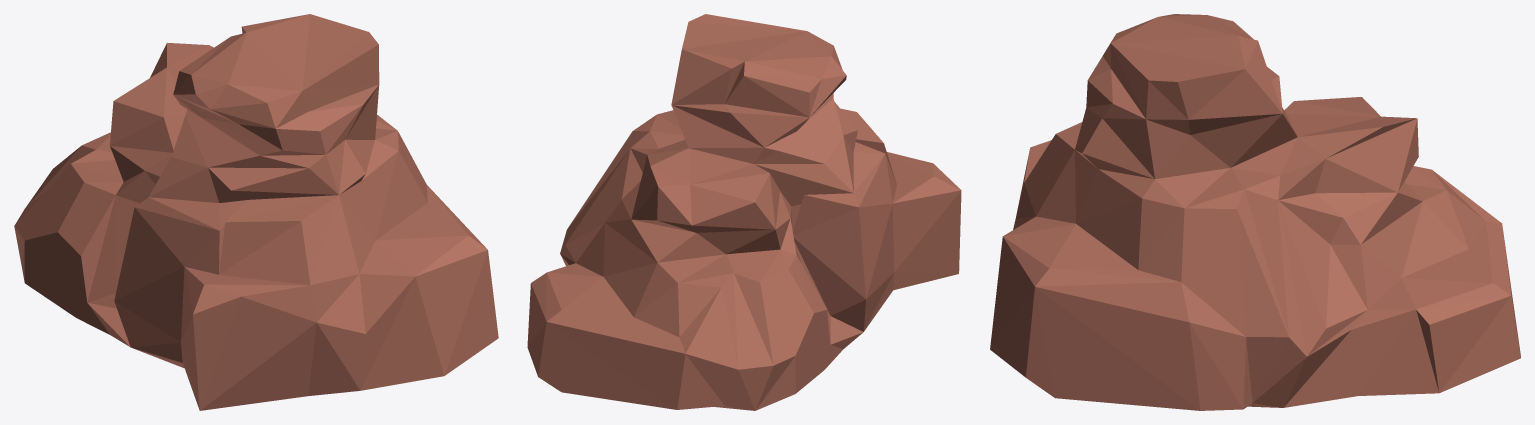
The model's file is rock_010.fbx.
3 renders of one model, left to right at view 1: azimuth 30°, elevation 25°; view 2: azimuth 150°, elevation 25°; view 3: azimuth 270°, elevation 25°, orthographic. The views are drawn at different scales.
Parts seen in each view (by area): view 1: rock_010; view 2: rock_010; view 3: rock_010.
Boxes of the visible parts, x1,y1,x2,y2 form: rock_010: (14, 14, 498, 410); rock_010: (527, 14, 961, 410); rock_010: (990, 14, 1520, 410).
Size of the model in its own units: 1725 by 2340 by 1427.
